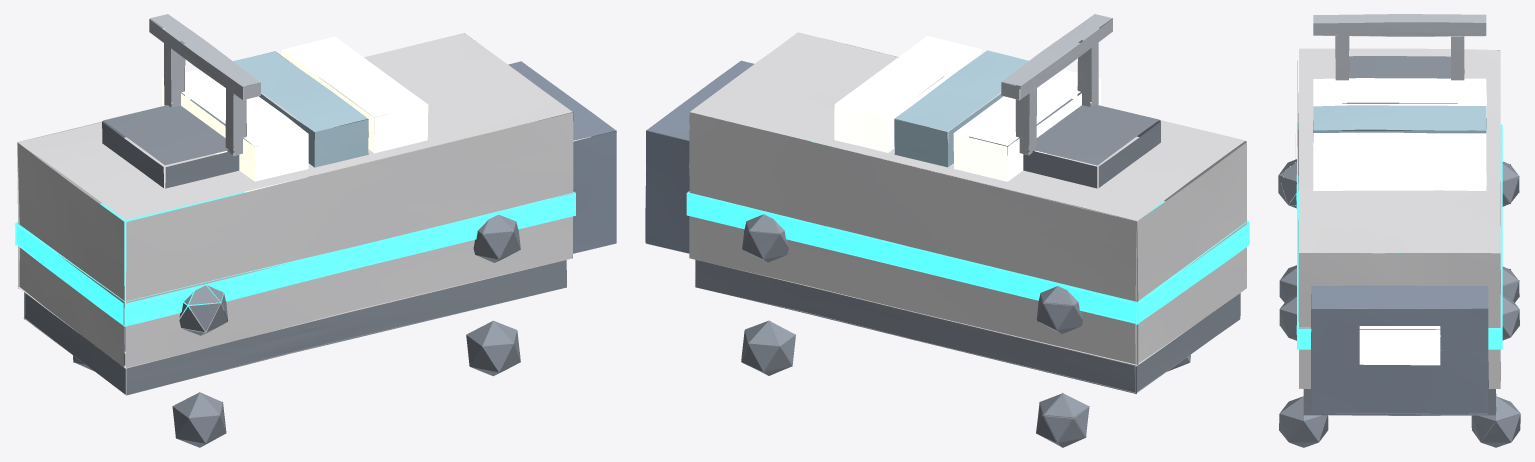
The model's file is loco.glb.
3 renders of one model, left to right at view 1: azimuth 30°, elevation 25°; view 2: azimuth 150°, elevation 25°; view 3: azimuth 270°, elevation 25°, orthographic. The views are drawn at different scales.
Visible parts, largest first — view 1: MetroLoco; view 2: MetroLoco; view 3: MetroLoco.
Part boxes in pixels (bbox=[...]): MetroLoco: bbox=[14, 14, 616, 447]; MetroLoco: bbox=[645, 14, 1249, 447]; MetroLoco: bbox=[1278, 14, 1520, 447].
Size of the model in its own units: 2.84 by 1.85 by 1.26.
